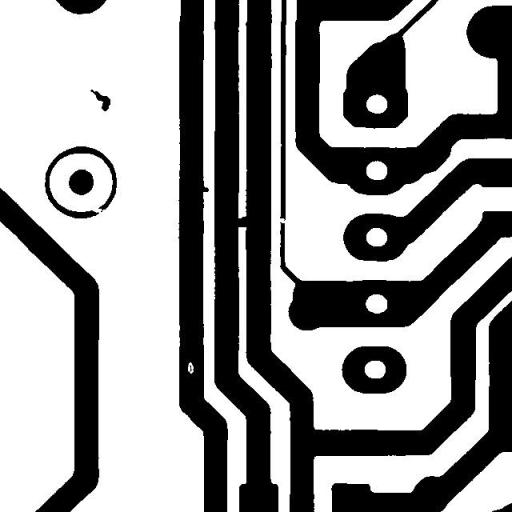copper: (82, 82, 118, 118)
open: (84, 200, 112, 222), (269, 210, 294, 230)
pin-hole: (180, 354, 201, 381)
short: (224, 209, 258, 234)
spur: (193, 178, 216, 199)
